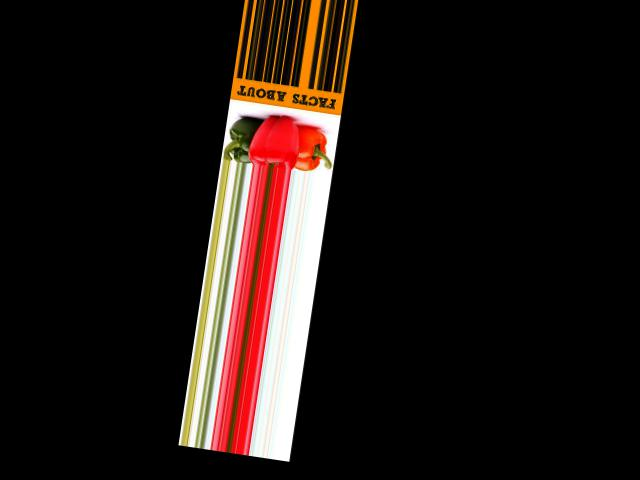bell_pepper: (222, 107, 258, 162)
